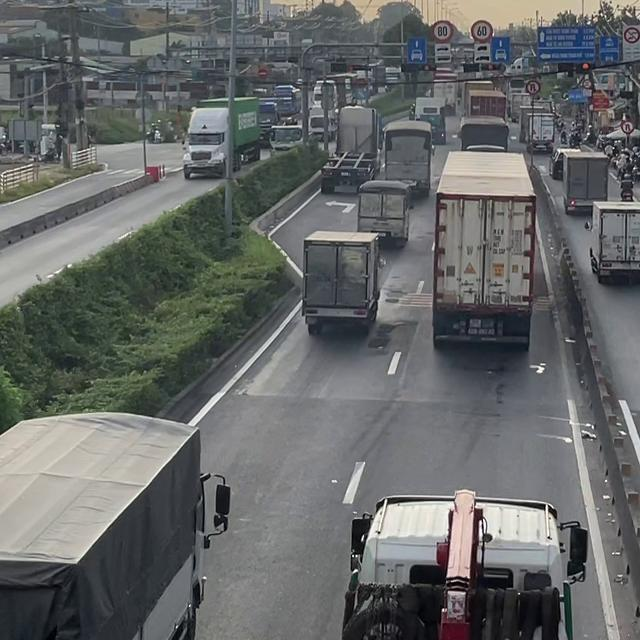car: (548, 146, 581, 179)
motorcycle: (618, 187, 636, 201)
truck: (0, 410, 230, 639), (341, 489, 587, 639), (431, 151, 537, 351), (301, 229, 384, 334), (182, 96, 260, 179), (316, 103, 378, 192), (584, 200, 639, 284), (381, 119, 434, 197), (550, 147, 609, 214), (356, 179, 412, 247), (458, 115, 509, 151), (412, 96, 446, 144), (525, 112, 556, 153), (469, 90, 506, 124), (518, 106, 544, 142), (431, 80, 456, 115), (508, 92, 532, 122)
